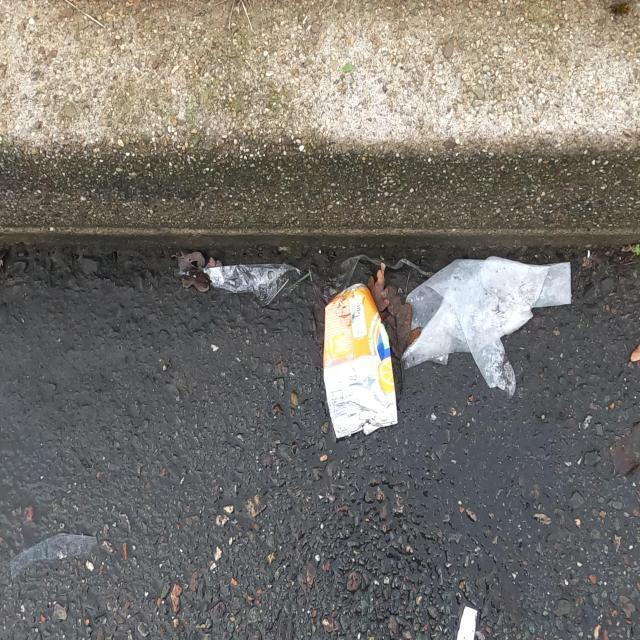Can-Metal: (320, 282, 400, 446)
